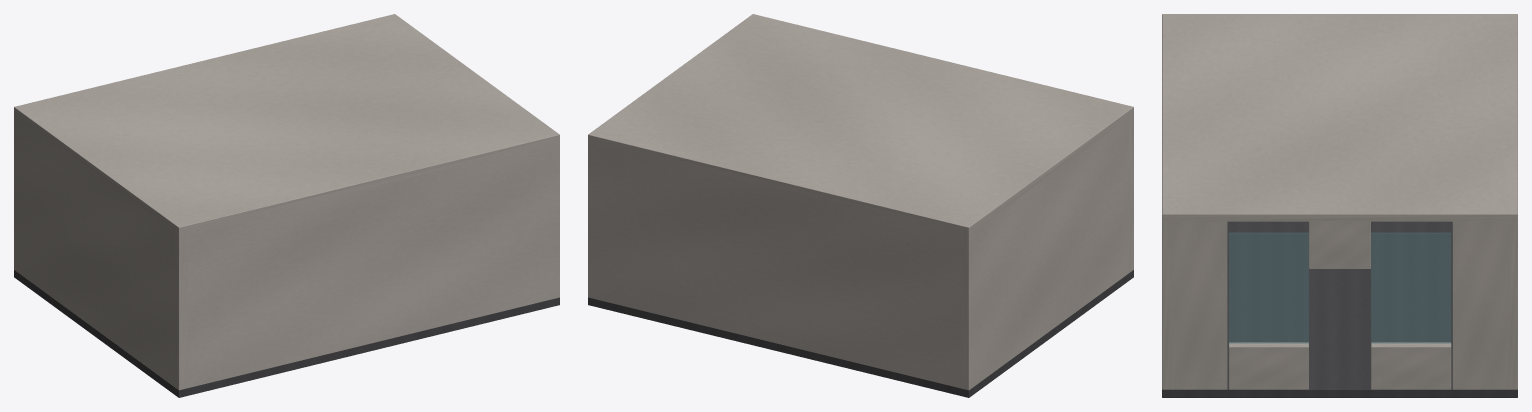
The model's file is cleanroom_shell.glb.
The picture shows the model from 3 angles, left to right: view 1: azimuth 30°, elevation 25°; view 2: azimuth 150°, elevation 25°; view 3: azimuth 270°, elevation 25°; orthographic projection. The views are drawn at different scales.
Visible parts, largest first — view 1: ceiling.005, wall.002, service_wall, floor.007; view 2: ceiling.005, wall.003, service_wall, floor.007, wall.002; view 3: ceiling.005, floor.007, window_pillar, window_pillar.001, observation_glass, observation_glass.001, glass_lower, glass_lower.001, door_header.001, wall.003, wall.002.
Boxes of the visible parts, x1,y1,x2,y2 form: ceiling.005: (14,14,559,233); wall.002: (173,138,559,389); service_wall: (14,111,188,390); floor.007: (14,270,559,397); ceiling.005: (588,14,1133,234); wall.003: (588,138,973,389); service_wall: (959,111,1133,390); floor.007: (588,270,1133,397); wall.002: (1128,113,1132,272); ceiling.005: (1162,14,1517,221); floor.007: (1162,221,1517,397); window_pillar: (1168,218,1227,389); window_pillar.001: (1452,218,1511,389); observation_glass: (1228,232,1308,343); observation_glass.001: (1371,232,1451,343); glass_lower: (1228,342,1308,389); glass_lower.001: (1371,342,1451,389); door_header.001: (1309,221,1370,268); wall.003: (1506,218,1517,389); wall.002: (1162,219,1173,389).
Size of the model in its own units: 8 by 3.42 by 6.
Materials: 4 (2 with a texture image).
